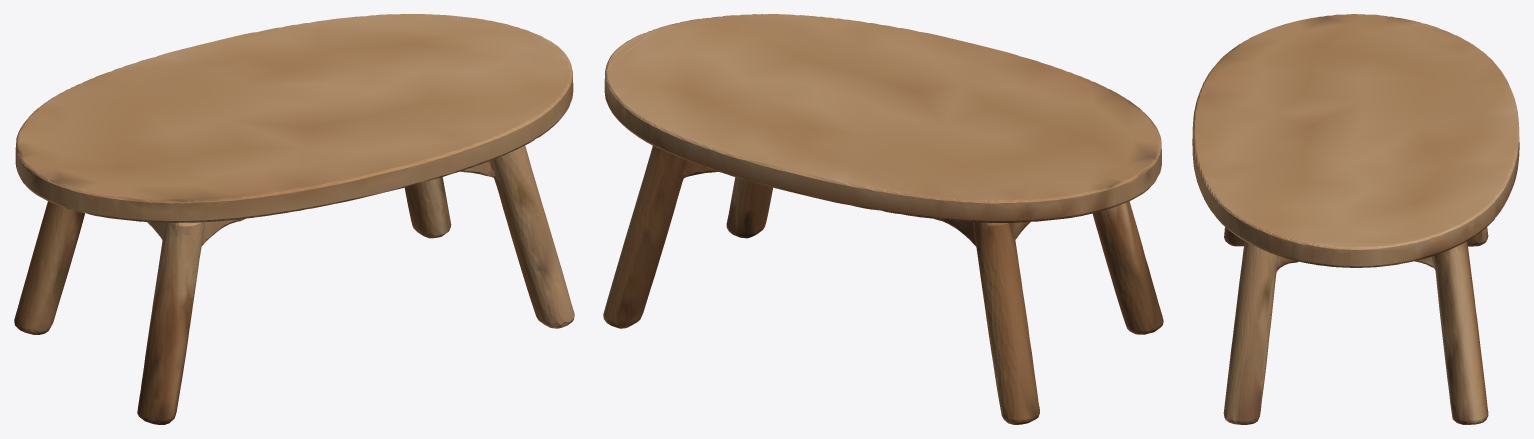
File: coffee-table.glb
3 renders of one model, left to right at view 1: azimuth 30°, elevation 25°; view 2: azimuth 150°, elevation 25°; view 3: azimuth 270°, elevation 25°, orthographic. The views are drawn at different scales.
Size of the model in its own units: 5.98e-05 by 2.4e-05 by 3.51e-05.
